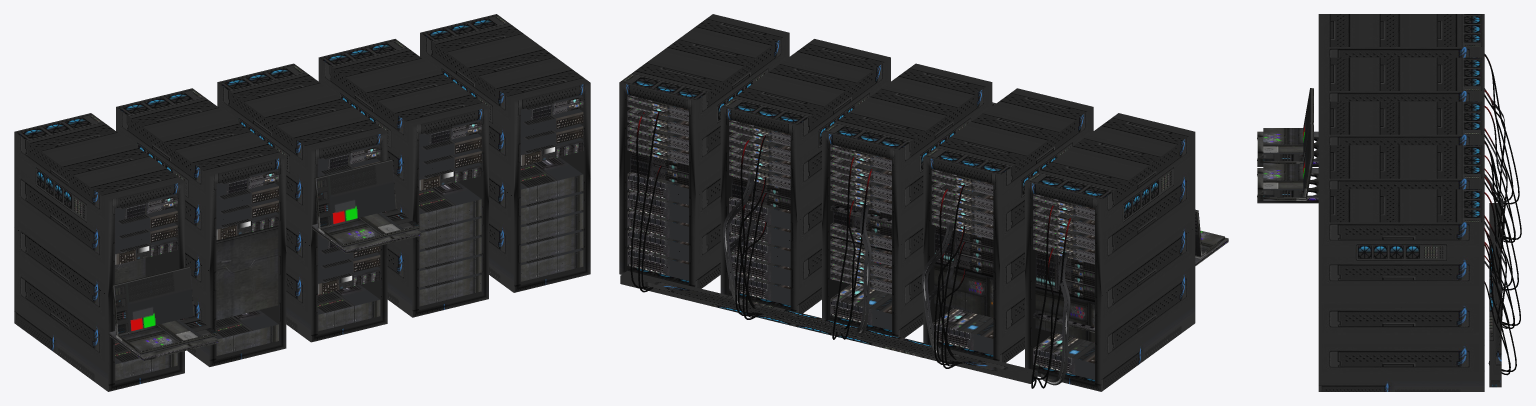
The model's file is right-supercomputer.glb.
The picture shows the model from 3 angles, left to right: view 1: azimuth 30°, elevation 25°; view 2: azimuth 150°, elevation 25°; view 3: azimuth 270°, elevation 25°; orthographic projection. The views are drawn at different scales.
Parts seen in each view (by area): view 1: Object_1, Object_0; view 2: Object_1, Object_0; view 3: Object_1, Object_0.
Part boxes in pixels (<box>): Object_1: <box>14,33,590,391</box>; Object_0: <box>15,14,589,384</box>; Object_1: <box>619,33,1228,391</box>; Object_0: <box>619,14,1228,388</box>; Object_1: <box>1257,47,1507,391</box>; Object_0: <box>1257,14,1521,379</box>.
Bounding box in the file's own units: 790 × 300 × 424.
Materials: 1 (1 with a texture image).
